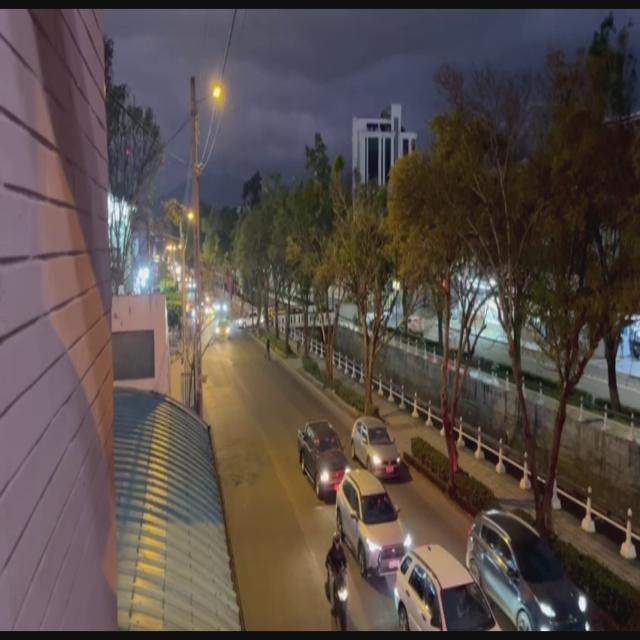CMT: (301, 425, 349, 499)
MOTORCYCLE: (321, 558, 358, 632)
SUV: (466, 506, 601, 630), (393, 542, 497, 630), (336, 477, 404, 580)
